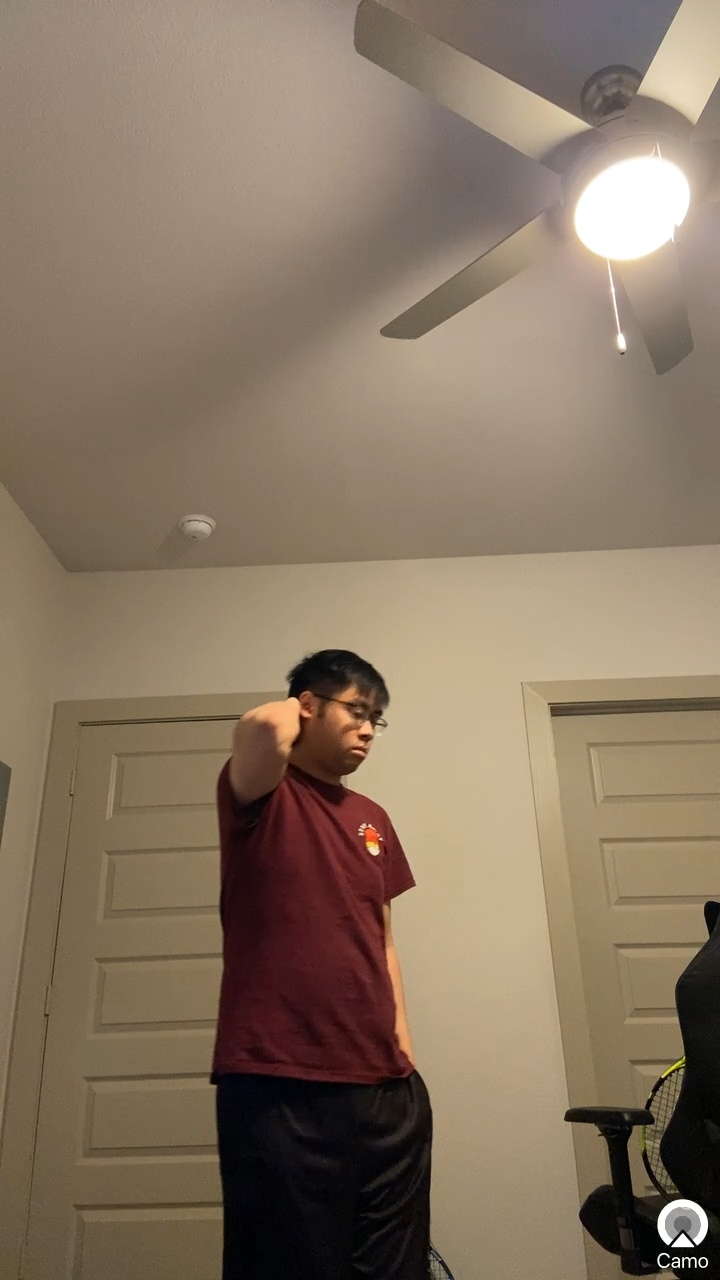Person: (169, 625, 490, 1280)
